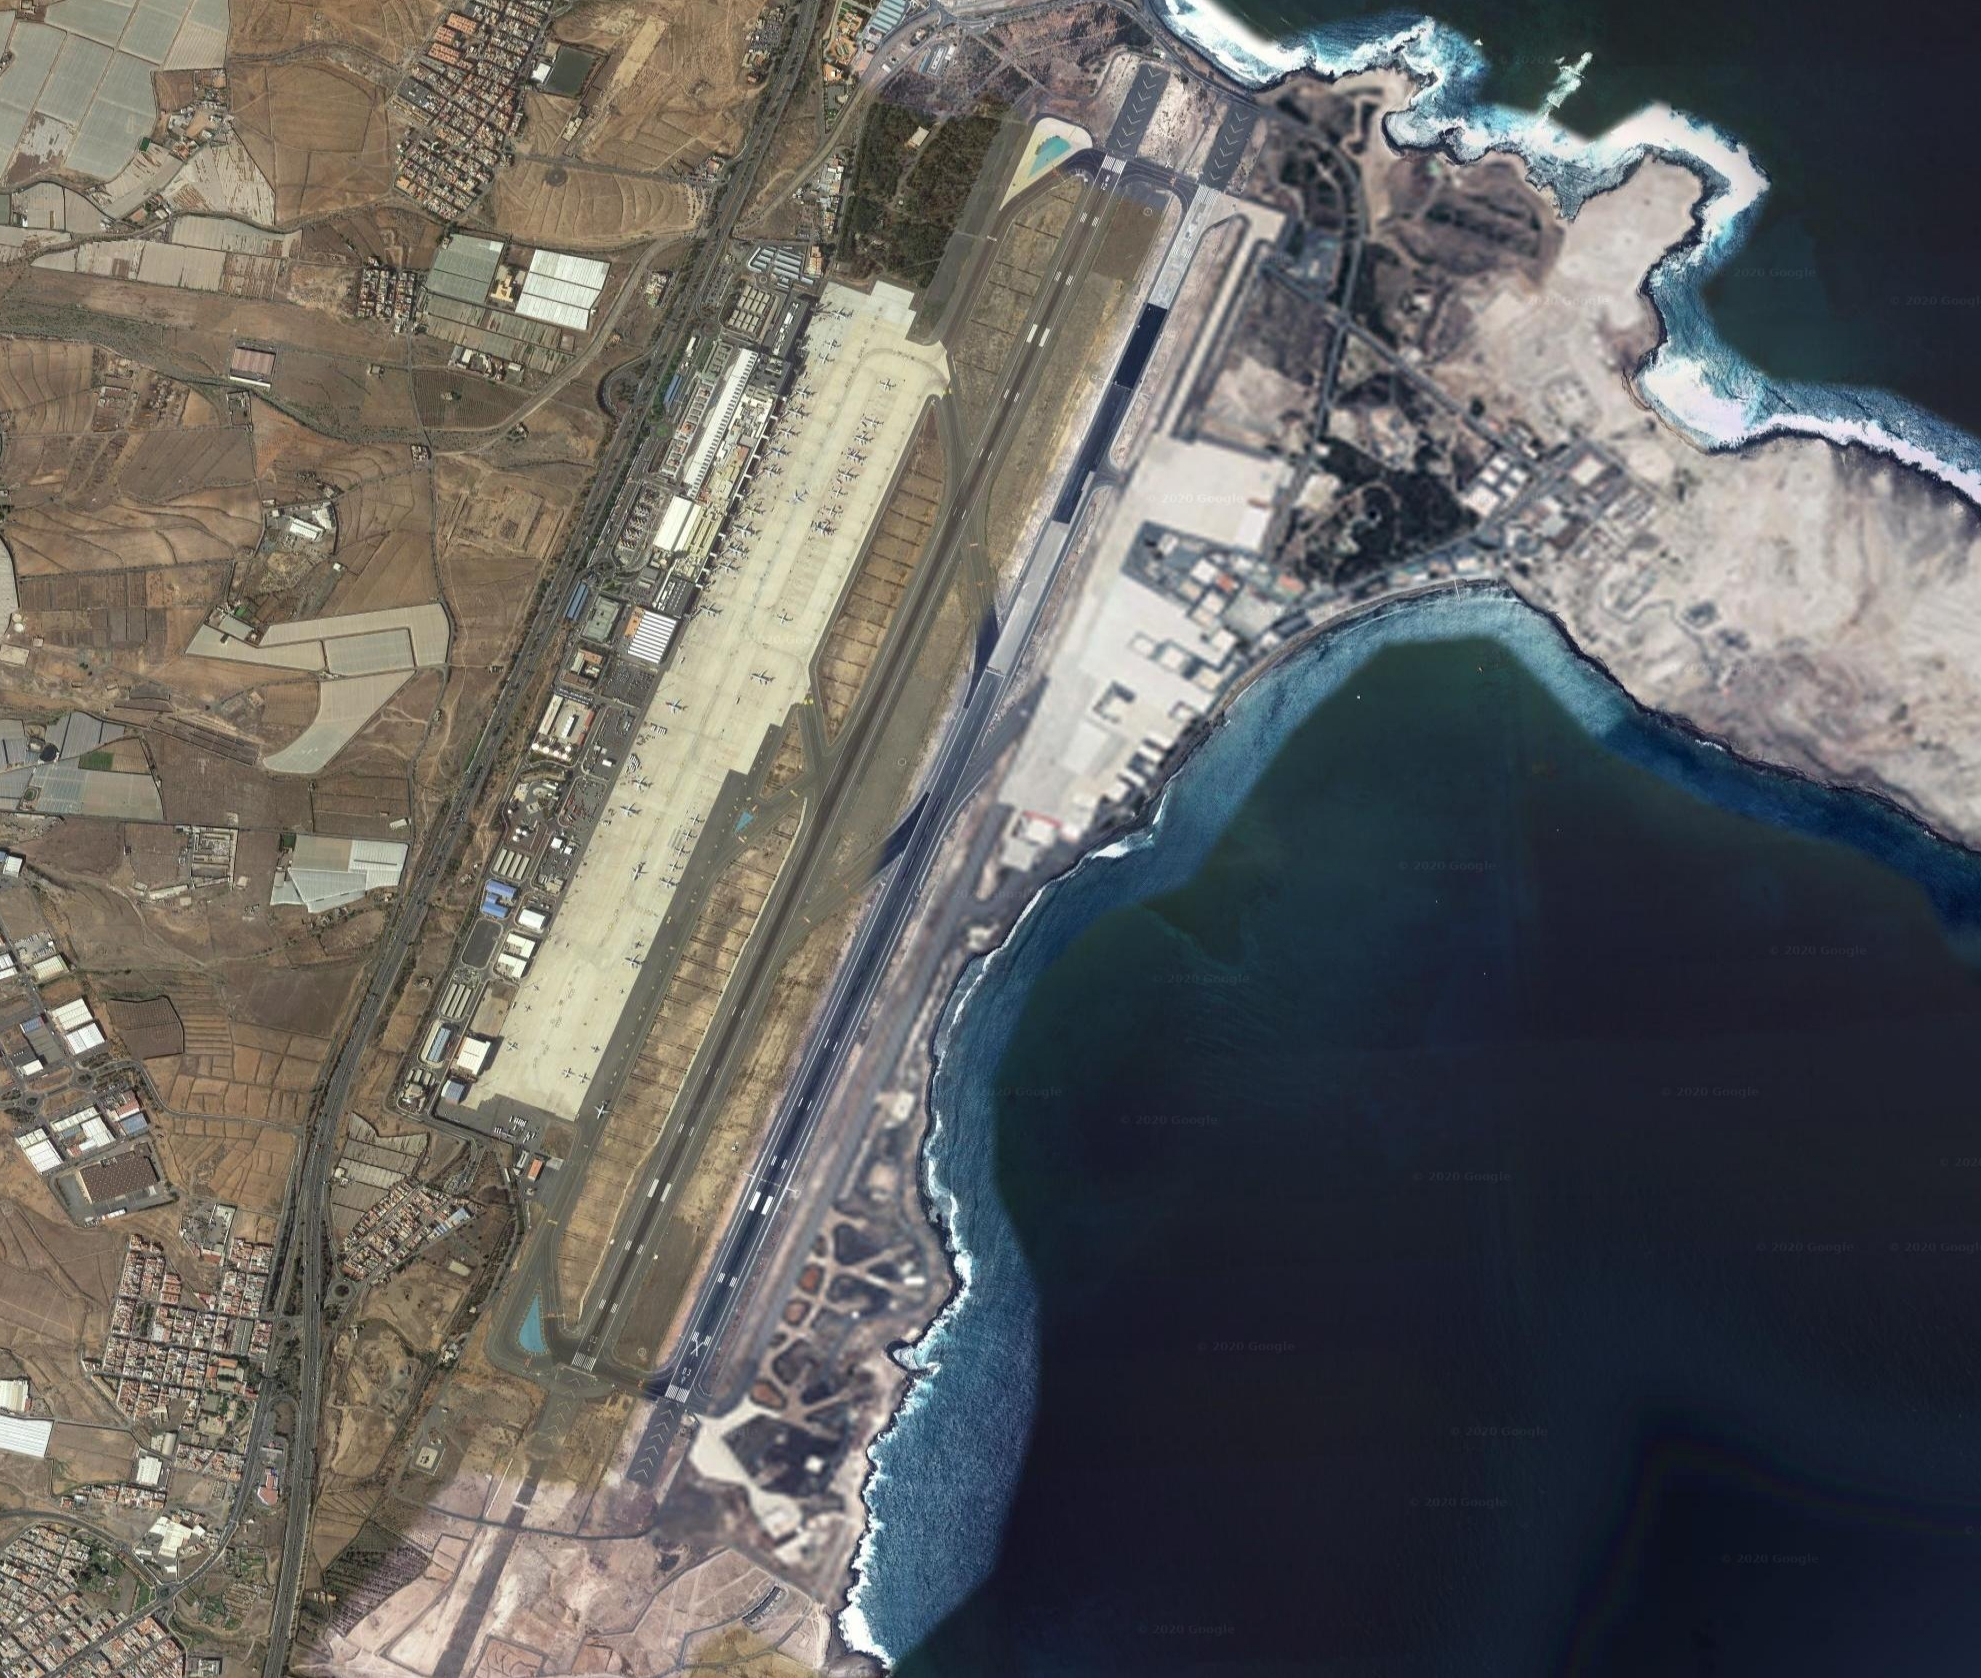airport: (456, 55, 1269, 1493)
motorway: (466, 524, 578, 726), (396, 724, 503, 932), (568, 325, 669, 533), (311, 927, 413, 1134), (263, 1405, 326, 1678), (285, 1137, 346, 1410), (658, 166, 756, 331), (731, 2, 829, 165)
